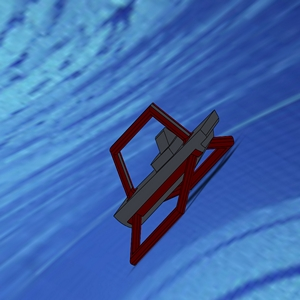submarine: (73, 77, 255, 272)
